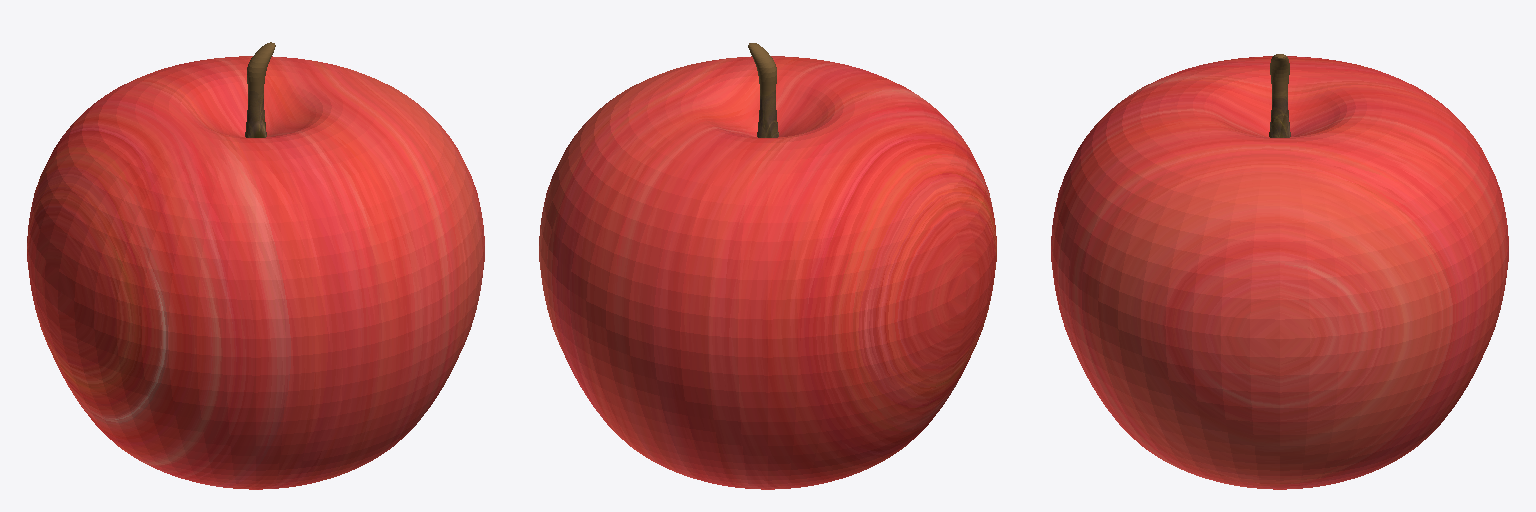
3 renders of one model, left to right at view 1: azimuth 30°, elevation 25°; view 2: azimuth 150°, elevation 25°; view 3: azimuth 270°, elevation 25°, orthographic.
Visible parts, largest first — view 1: Circle, Circle.001; view 2: Circle, Circle.001; view 3: Circle, Circle.001.
Part boxes in pixels (bbox=[...]): Circle: bbox=[27, 56, 484, 489]; Circle.001: bbox=[245, 42, 275, 137]; Circle: bbox=[539, 56, 996, 489]; Circle.001: bbox=[748, 43, 778, 137]; Circle: bbox=[1051, 56, 1508, 489]; Circle.001: bbox=[1269, 54, 1290, 137].
Bounding box in the file's own units: 2.25 × 2.26 × 2.25.
Materials: 2 (2 with a texture image).